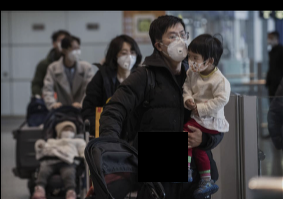with_mask: (162, 27, 190, 61), (116, 45, 138, 71), (186, 50, 207, 72), (67, 43, 83, 61), (60, 125, 76, 139)
